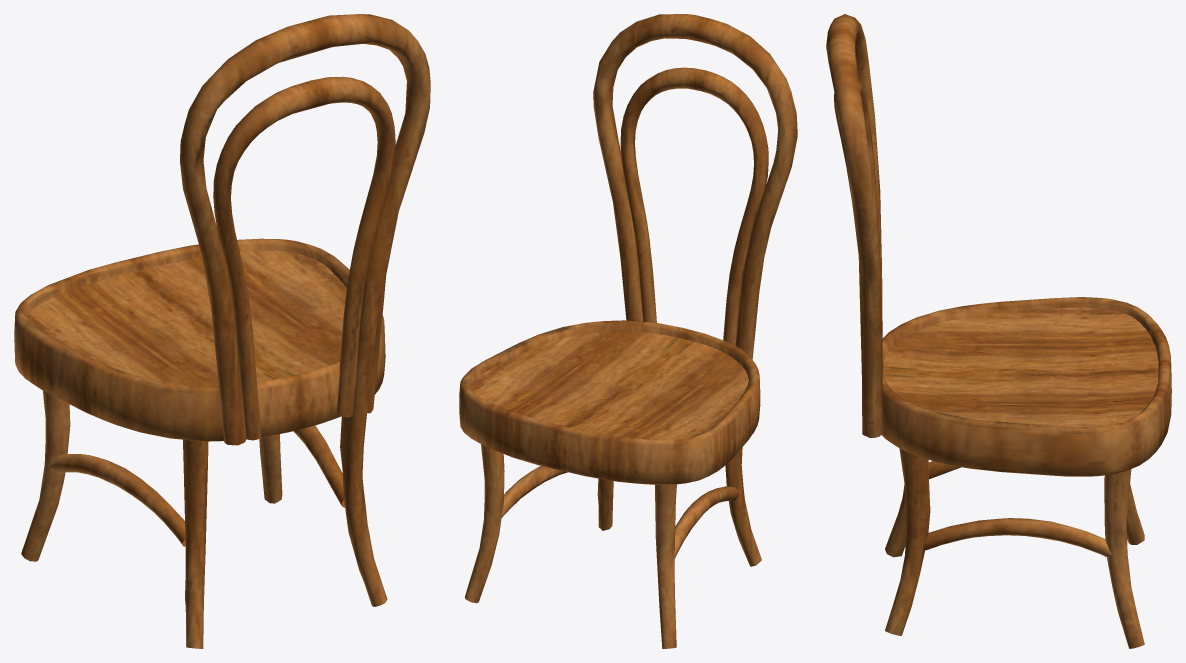
File: chair.glb
The picture shows the model from 3 angles, left to right: view 1: azimuth 30°, elevation 25°; view 2: azimuth 150°, elevation 25°; view 3: azimuth 270°, elevation 25°; orthographic projection. The views are drawn at different scales.
Visible parts, largest first — view 1: Chair; view 2: Chair; view 3: Chair.
Part boxes in pixels (left/top/right/bottom): Chair: left=14, top=14, right=430, bottom=648; Chair: left=459, top=14, right=797, bottom=648; Chair: left=826, top=14, right=1171, bottom=648.
Size of the model in its own units: 0.5729 by 1.11 by 0.6173.
Materials: 1 (1 with a texture image).
